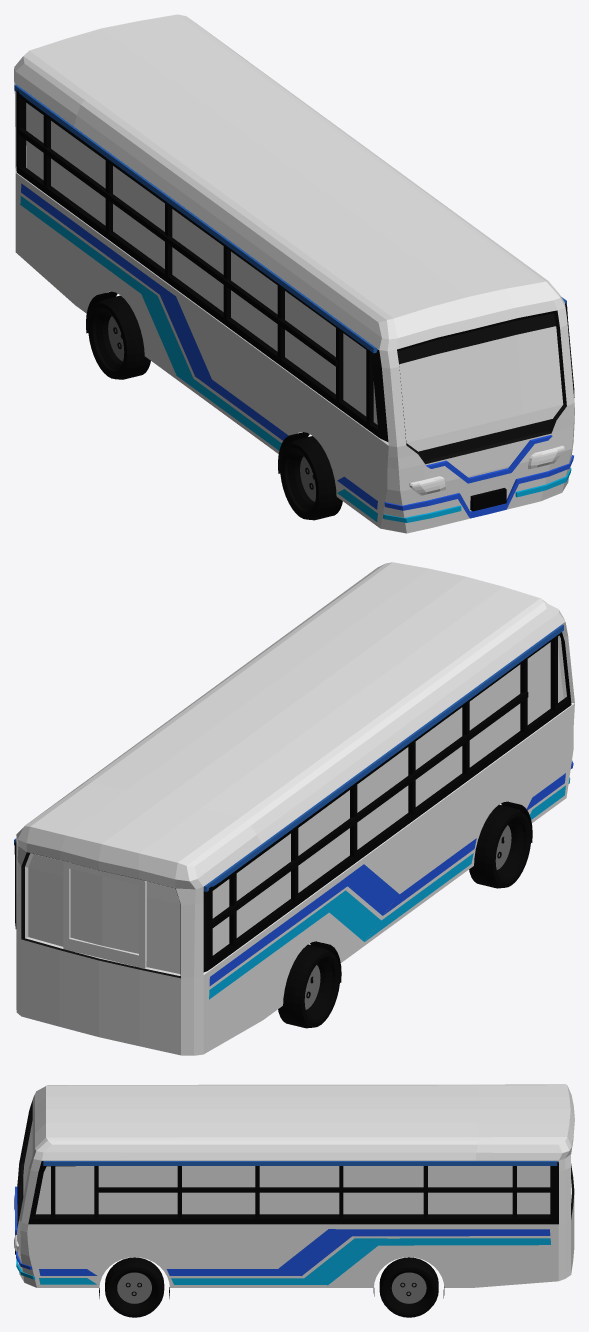
File: Bus_Tata.fbx
3 renders of one model, top to bottom at view 1: azimuth 30°, elevation 25°; view 2: azimuth 150°, elevation 25°; view 3: azimuth 270°, elevation 25°, orthographic. The views are drawn at different scales.
Visible parts, largest first — view 1: Cube, Cube.010, Cylinder.008, Cylinder.012, Cube.017, Cube.032, Plane.010, Plane.013, Plane.009, Plane.014, Plane.012, Cube.030 (+2 smaller); view 2: Cube, Cube.010, Cylinder.012, Cylinder.008, Cube.017, Cube.032, Plane.010, Plane.013, Plane.009, Plane.014, Plane.012, Cube.024 (+3 smaller); view 3: Cube, Cube.001, Cylinder.004, Cylinder, Cube.008, Cube.031, Plane.002, Plane.005, Plane.001, Plane.006, Plane.004, Plane (+2 smaller).
Boxes of the visible parts, box(x1,y1,x2,y2) form: Cube: box(14, 14, 574, 533); Cube.010: box(16, 90, 388, 441); Cylinder.008: box(88, 295, 150, 379); Cylinder.012: box(280, 436, 342, 520); Cube.017: box(18, 128, 337, 366); Cube.032: box(14, 84, 377, 353); Plane.010: box(21, 183, 167, 295); Plane.013: box(135, 279, 192, 378); Plane.009: box(153, 280, 211, 378); Plane.014: box(20, 196, 148, 294); Plane.012: box(176, 375, 281, 450); Cube.030: box(425, 435, 552, 483); Cube: box(16, 562, 574, 1055); Cube.010: box(203, 632, 571, 972); Cylinder.012: box(469, 804, 531, 888); Cylinder.008: box(278, 944, 340, 1028); Cube.017: box(212, 692, 528, 927); Cube.032: box(203, 624, 563, 891); Plane.010: box(209, 875, 355, 986); Plane.013: box(323, 890, 380, 941); Plane.009: box(341, 864, 399, 915); Plane.014: box(209, 902, 336, 999); Plane.012: box(365, 853, 473, 941); Cube.024: box(64, 938, 144, 967); Cube: box(17, 1084, 574, 1287); Cube.001: box(28, 1161, 558, 1224); Cylinder.004: box(379, 1257, 438, 1317); Cylinder: box(105, 1257, 164, 1317); Cube.008: box(98, 1187, 550, 1192); Cube.031: box(43, 1161, 557, 1165); Plane.002: box(329, 1229, 550, 1236); Plane.005: box(303, 1238, 386, 1285); Plane.001: box(277, 1229, 360, 1276); Plane.006: box(356, 1238, 550, 1245); Plane.004: box(171, 1278, 325, 1284); Plane: box(166, 1269, 299, 1275).
Size of the model in its own units: 230 by 245 by 723.
